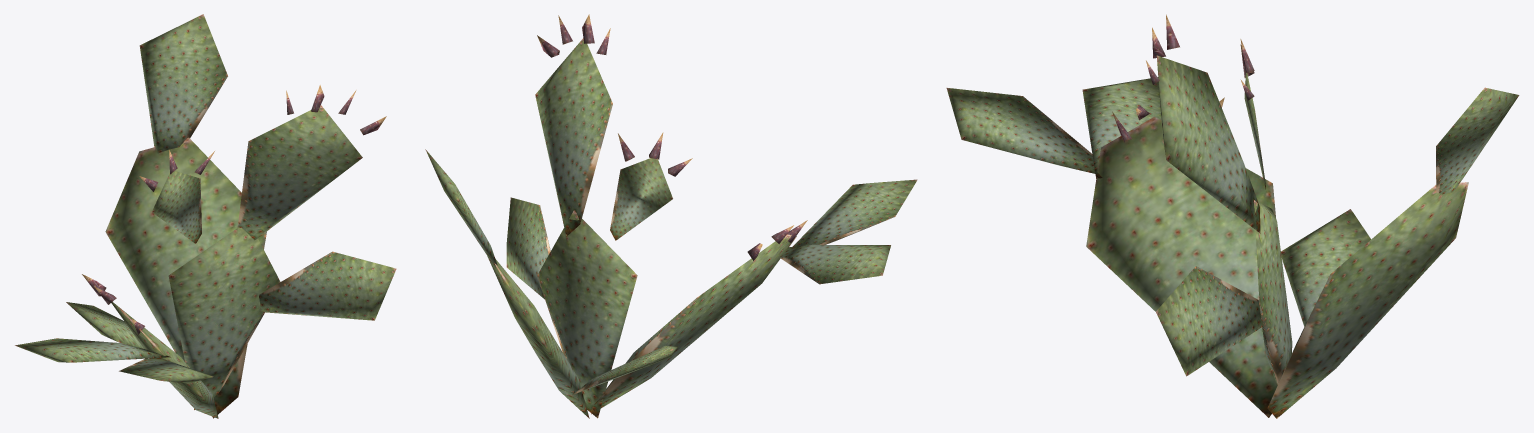
Rendered from cactus_01_LOD.FBX.
3 renders of one model, left to right at view 1: azimuth 30°, elevation 25°; view 2: azimuth 150°, elevation 25°; view 3: azimuth 270°, elevation 25°, orthographic. The views are drawn at different scales.
Visible parts, largest first — view 1: cactus_01_LOD; view 2: cactus_01_LOD; view 3: cactus_01_LOD.
Part boxes in pixels (x1,y1,x2,y2): cactus_01_LOD: (15,14,396,418); cactus_01_LOD: (425,14,917,418); cactus_01_LOD: (946,14,1519,418).
Size of the model in its own units: 26.82 by 24.25 by 29.8.
1 material, 1 textured.
